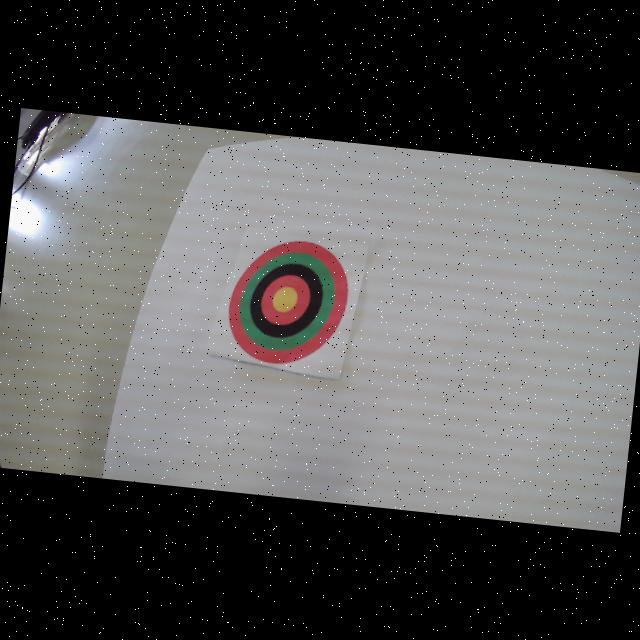COGNITIVE: (223, 232, 353, 370)
